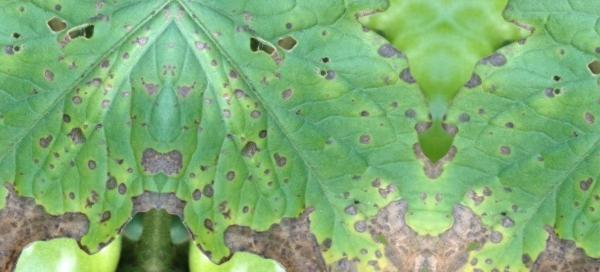Tomato Septoria leaf spot: (147, 0, 455, 272)
